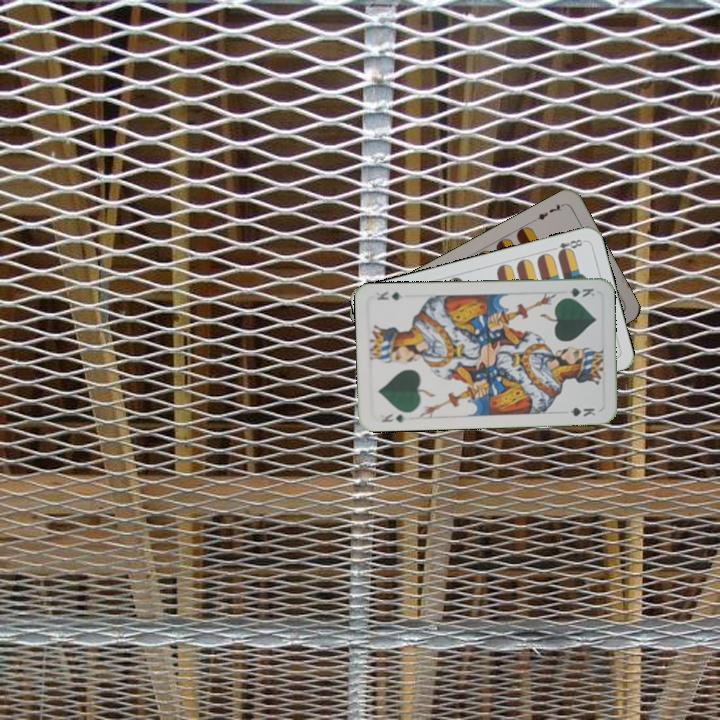E7: (529, 199, 566, 224)
E8: (547, 235, 585, 257)
GK: (558, 283, 597, 301), (378, 409, 406, 425)
